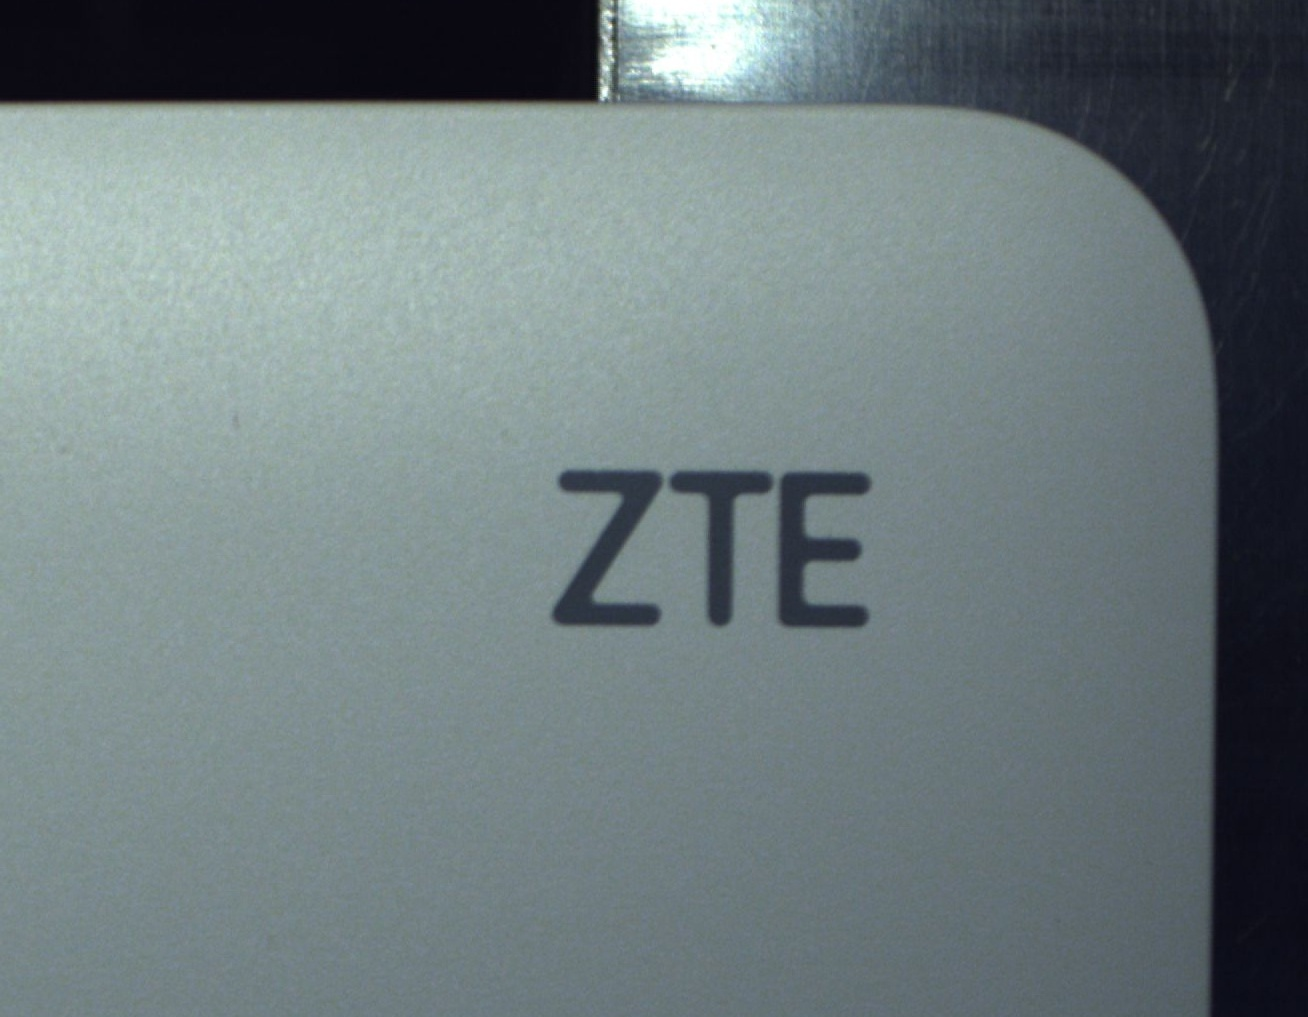AN_ZTE: (491, 441, 898, 655)
